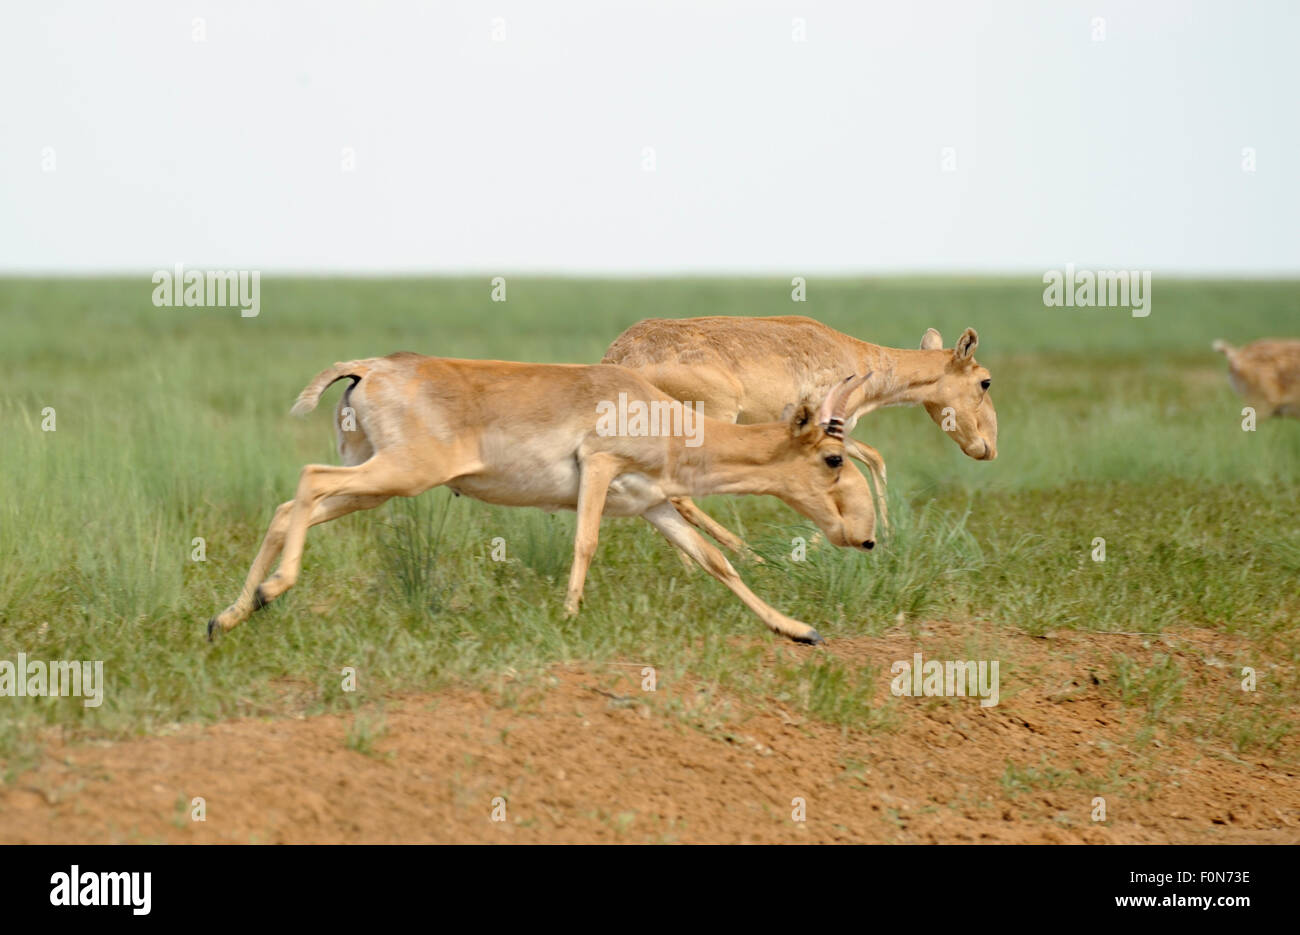saiga: (200, 354, 886, 658)
